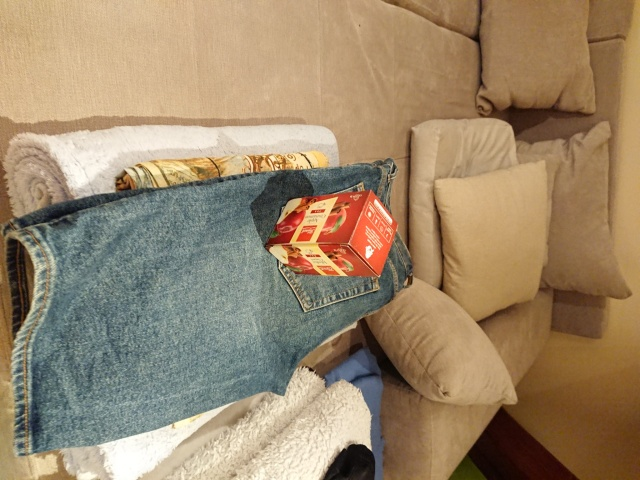Franck Apple Cinnamon Tea 60g: (261, 186, 400, 281)
